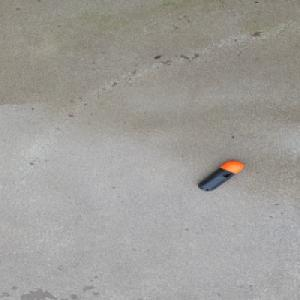PlasticPart: (196, 160, 245, 191)
